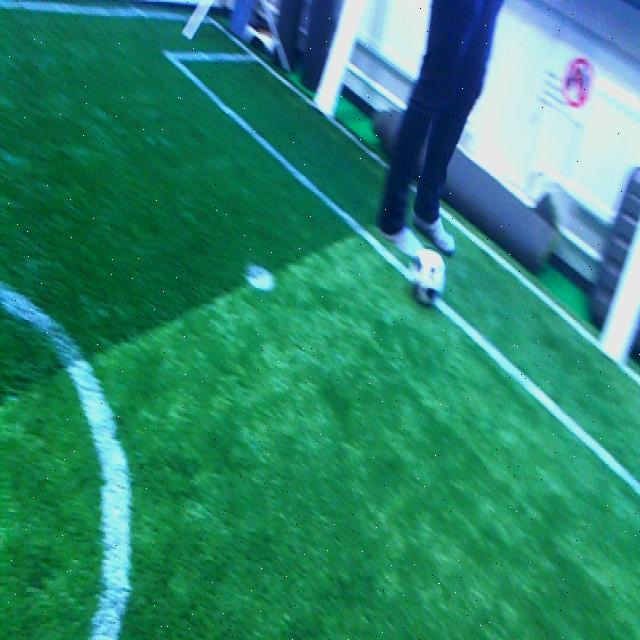ball: (409, 249, 444, 306)
goalpost: (314, 0, 365, 119), (597, 228, 638, 366)
